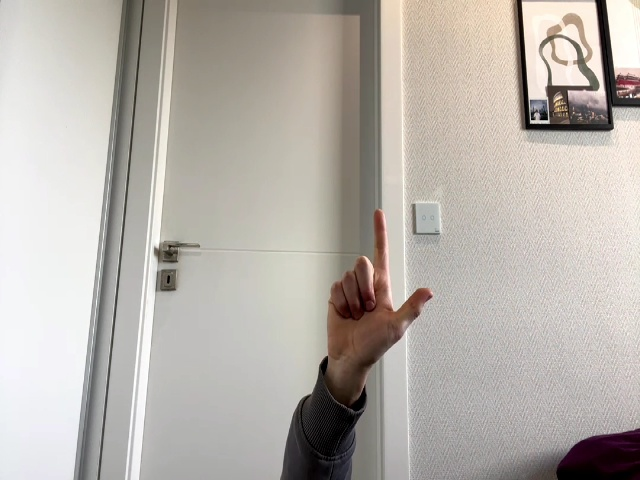L: (326, 209, 434, 377)
